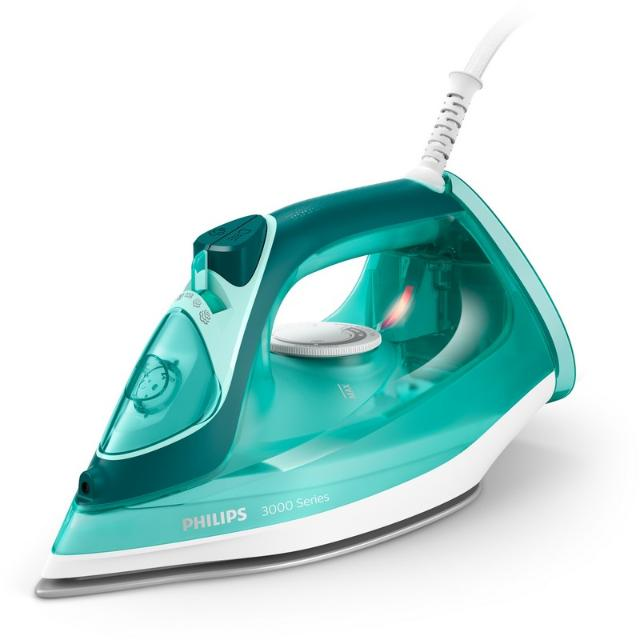Clothes-Iron: (25, 148, 585, 604)
